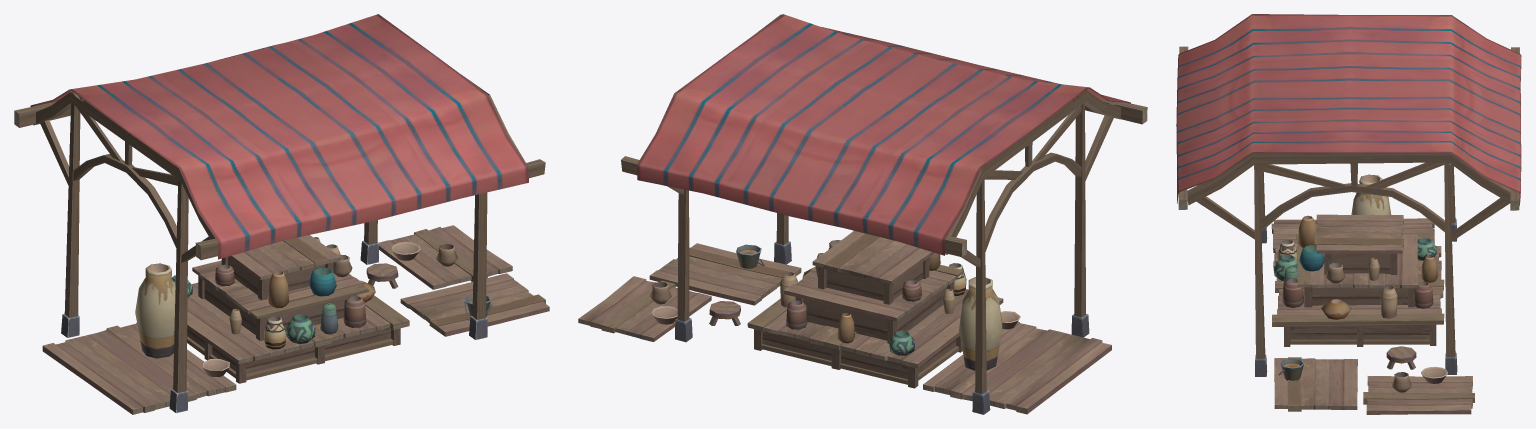
Rendered from Homeworld_Exterior_Md_Build_Store_01_Lod0.fbx.
3 views of the same model, side by side, from view 1: azimuth 30°, elevation 25°; view 2: azimuth 150°, elevation 25°; view 3: azimuth 270°, elevation 25° (orthographic). The views are drawn at different scales.
Parts seen in each view (by area): view 1: Area_MdProps_Store08_Lod0; view 2: Area_MdProps_Store08_Lod0; view 3: Area_MdProps_Store08_Lod0.
Boxes of the visible parts, x1=… form: Area_MdProps_Store08_Lod0: x1=14, y1=14, x2=549, y2=414; Area_MdProps_Store08_Lod0: x1=578, y1=14, x2=1147, y2=414; Area_MdProps_Store08_Lod0: x1=1176, y1=14, x2=1521, y2=414.
Bounding box in the file's own units: 6.31 × 3.45 × 4.77.
